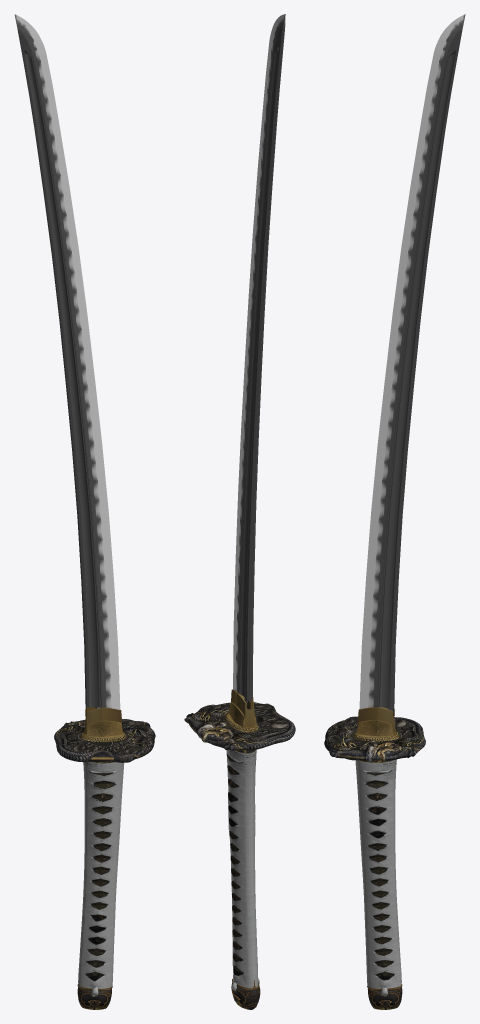
The model's file is 阎魔刀.fbx.
3 renders of one model, left to right at view 1: azimuth 90°, elevation 25°; view 2: azimuth 210°, elevation 25°; view 3: azimuth 270°, elevation 25°, orthographic. The views are drawn at different scales.
Parts seen in each view (by area): view 1: y阎魔刀; view 2: y阎魔刀; view 3: y阎魔刀.
Boxes of the visible parts, x1,y1,x2,y2 form: y阎魔刀: (14, 14, 155, 1009); y阎魔刀: (184, 14, 295, 1009); y阎魔刀: (324, 14, 465, 1009).
Size of the model in its own units: 0.0643 by 0.7372 by 0.0948.
